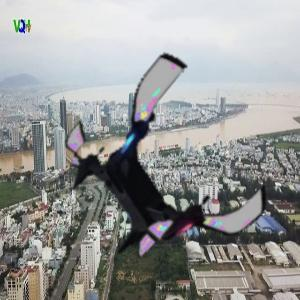drone: (63, 68, 275, 280)
